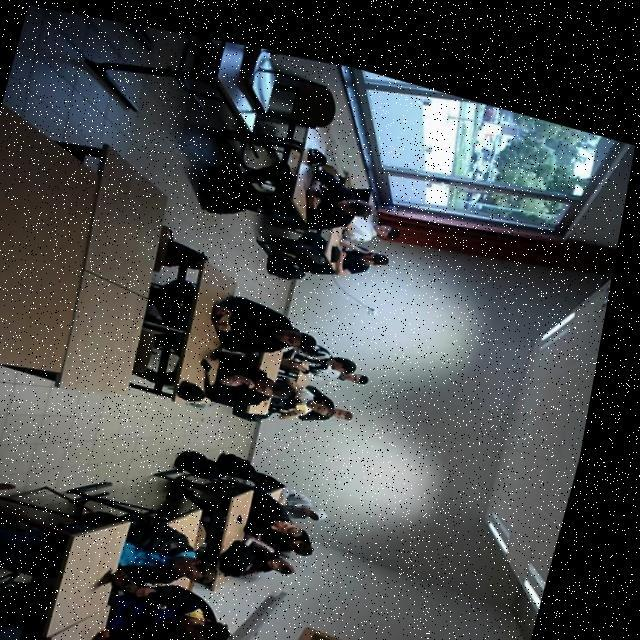phone_use: (111, 477, 252, 598), (94, 568, 227, 638), (211, 296, 314, 352), (305, 148, 370, 228), (322, 213, 392, 273), (271, 519, 311, 553)
